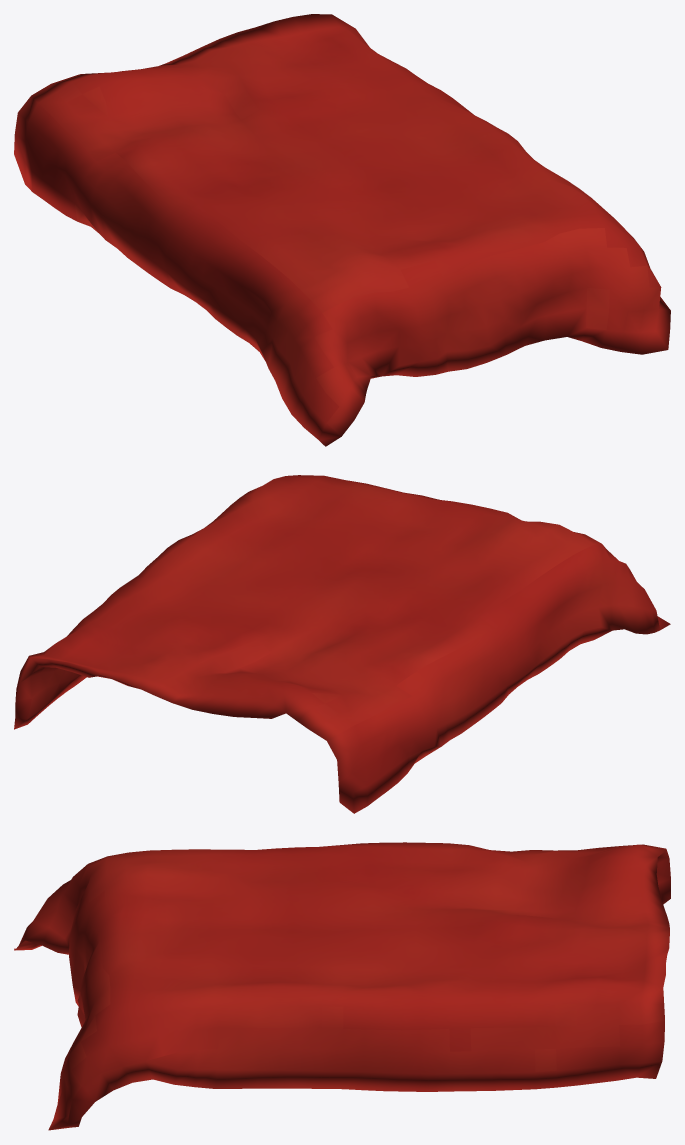
File: manta.fbx
The picture shows the model from 3 angles, top to bottom: view 1: azimuth 30°, elevation 25°; view 2: azimuth 150°, elevation 25°; view 3: azimuth 270°, elevation 25°; orthographic projection. The views are drawn at different scales.
Parts seen in each view (by area): view 1: manta 4; view 2: manta 4; view 3: manta 4.
Boxes of the visible parts, x1,y1,x2,y2 form: manta 4: (14,14,670,446); manta 4: (14,475,670,813); manta 4: (14,842,670,1130).
Size of the model in its own units: 122 by 41.38 by 177.
